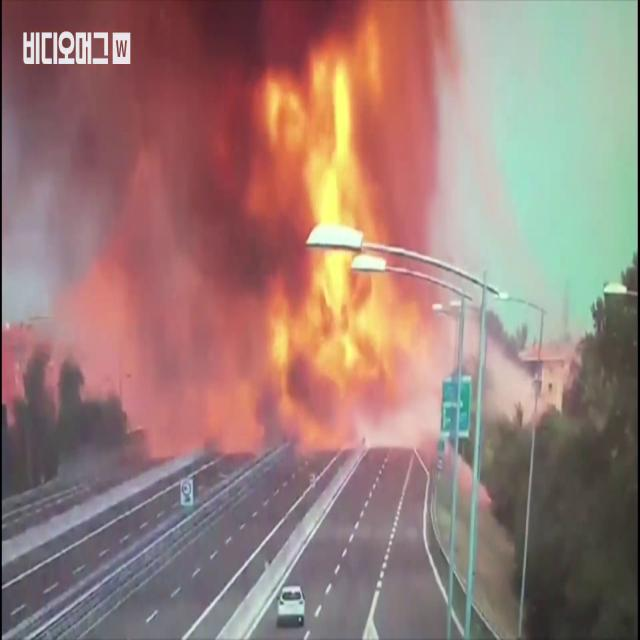explosion: (0, 0, 568, 521)
